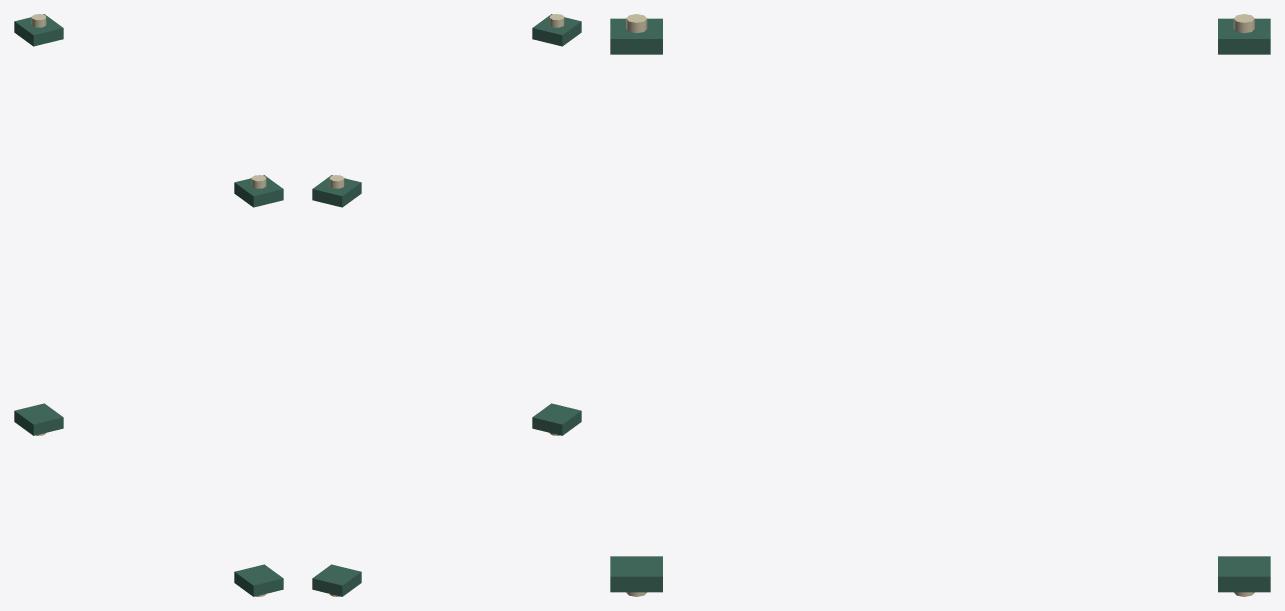
The model's file is tank4200_valves.obj.
3 views of the same model, side by side, from view 1: azimuth 30°, elevation 25°; view 2: azimuth 150°, elevation 25°; view 3: azimuth 270°, elevation 25° (orthographic). The views are drawn at different scales.
Parts seen in each view (by area): view 1: tank4200_valves; view 2: tank4200_valves; view 3: tank4200_valves.
Boxes of the visible parts, box(x1,y1,x2,y2) form: tank4200_valves: box(14, 14, 283, 596); tank4200_valves: box(312, 14, 581, 596); tank4200_valves: box(610, 14, 1270, 596).
Bounding box in the file's own units: 1 × 13.24 × 13.8.
